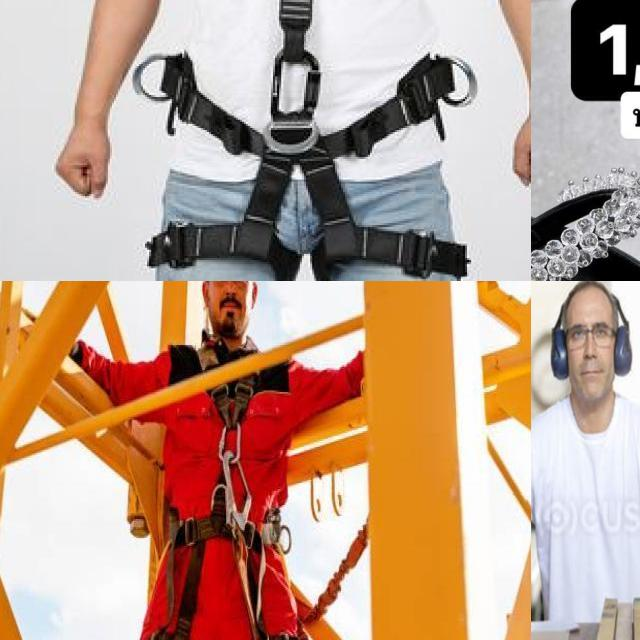Ear-protection: (547, 281, 636, 417)
Harness: (169, 0, 440, 281), (163, 378, 266, 640)
Sandals: (531, 99, 640, 281)
glasses: (563, 322, 619, 348)
person: (531, 281, 640, 636)
